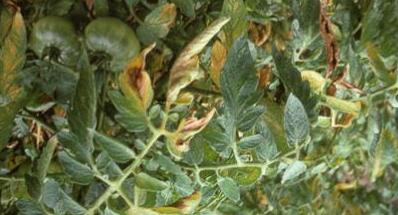Tomato Early blight leaf: (162, 18, 232, 110), (117, 45, 156, 135), (0, 0, 29, 105), (165, 109, 223, 156), (24, 134, 59, 206), (129, 189, 208, 215)
Tomato leaf: (61, 55, 99, 158), (219, 38, 258, 133), (284, 92, 307, 148)
